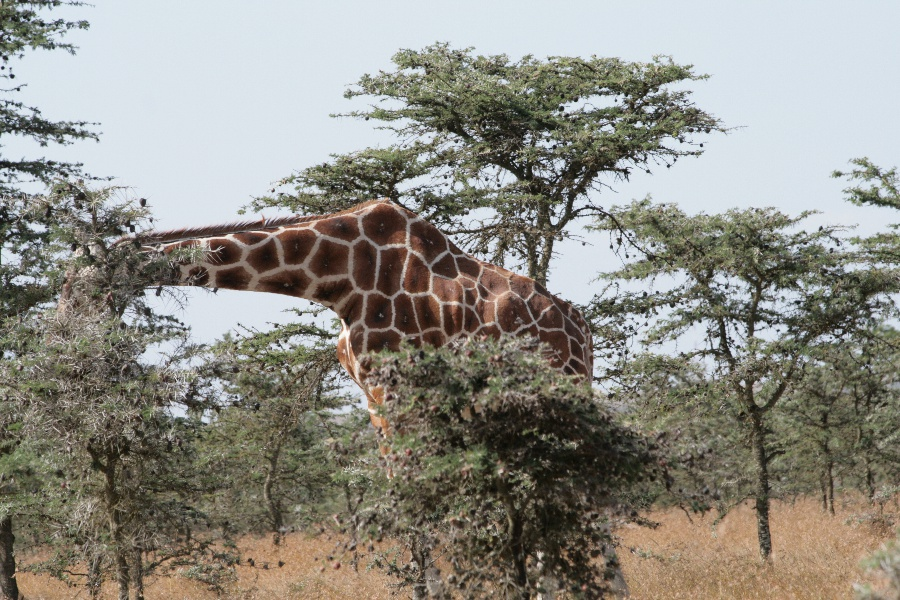giraffe: (53, 185, 604, 473)
